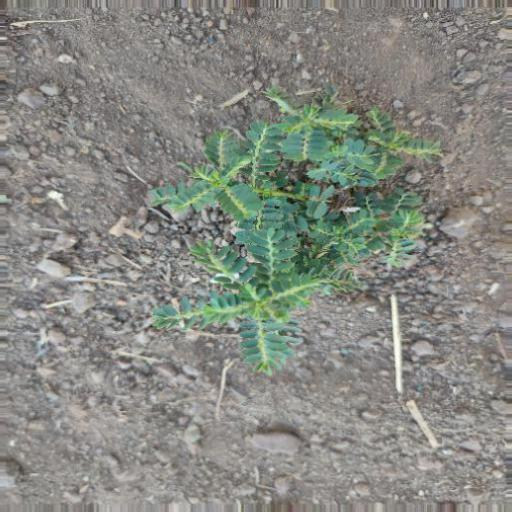weed: (137, 92, 437, 362)
